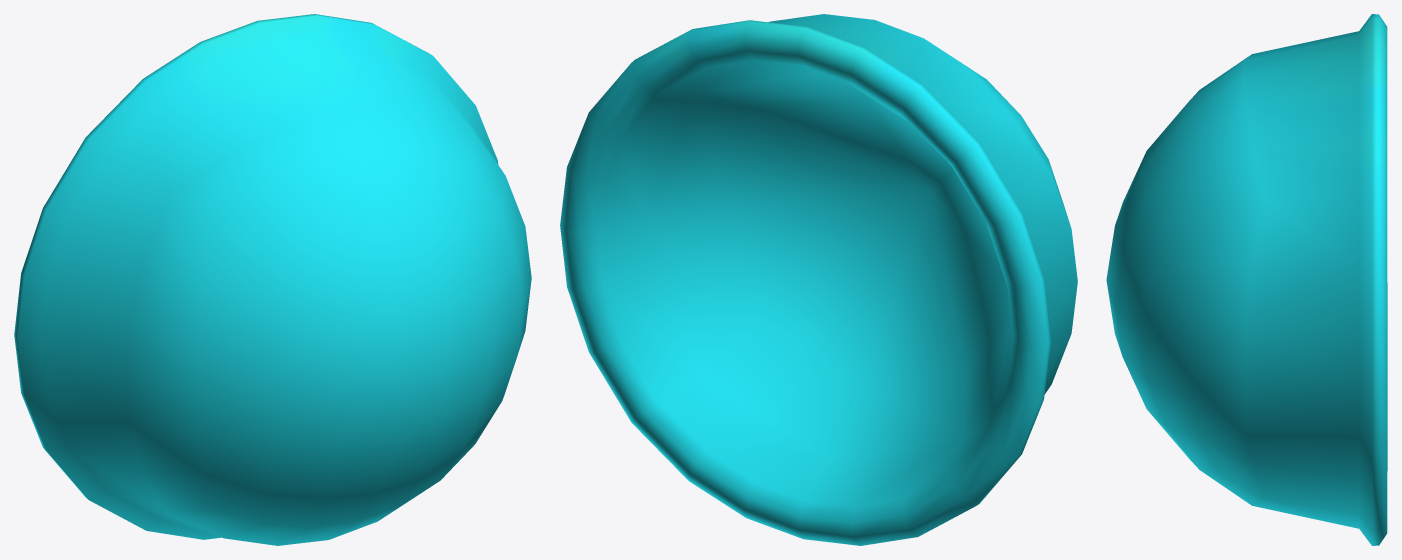
File: Amongus02_Cut_015_0.FBX
3 renders of one model, left to right at view 1: azimuth 30°, elevation 25°; view 2: azimuth 150°, elevation 25°; view 3: azimuth 270°, elevation 25°, orthographic. The views are drawn at different scales.
Visible parts, largest first — view 1: Amongus02_Cut_015_0; view 2: Amongus02_Cut_015_0; view 3: Amongus02_Cut_015_0.
Boxes of the visible parts, x1,y1,x2,y2 form: Amongus02_Cut_015_0: (14, 14, 531, 545); Amongus02_Cut_015_0: (560, 14, 1077, 545); Amongus02_Cut_015_0: (1106, 14, 1387, 545).
Bounding box in the file's own units: 0.7584 × 0.4 × 0.7584.
